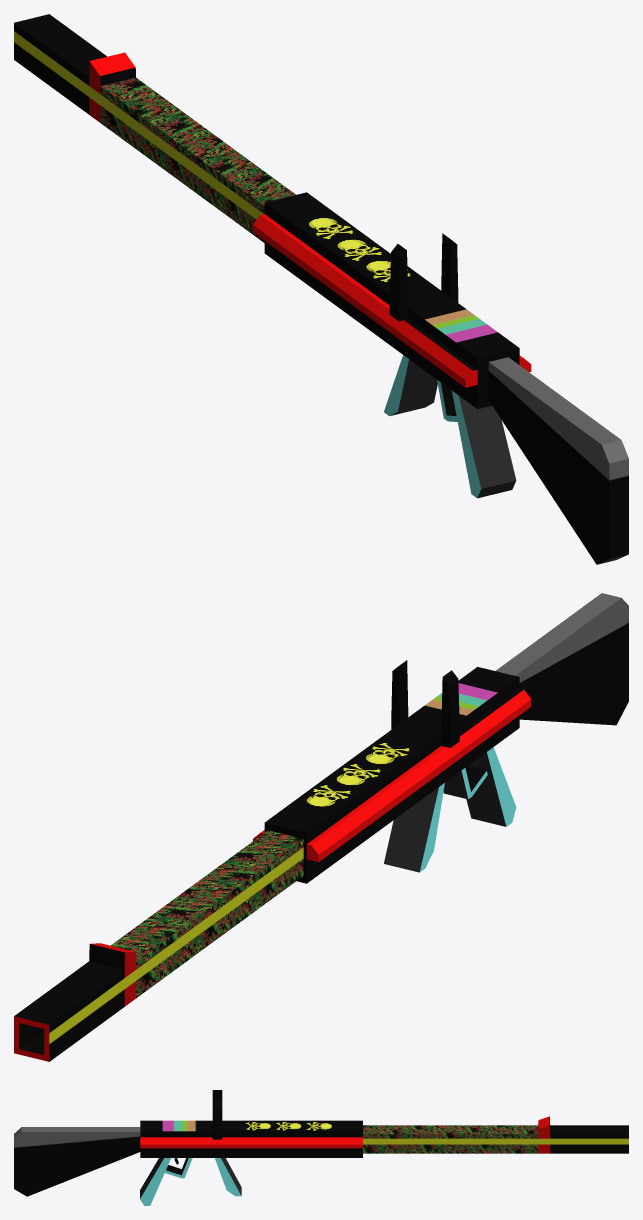
The model's file is Gun 6.fbx.
3 renders of one model, top to bottom at view 1: azimuth 30°, elevation 25°; view 2: azimuth 150°, elevation 25°; view 3: azimuth 270°, elevation 25°, orthographic. The views are drawn at different scales.
Visible parts, largest first — view 1: Cube.001; view 2: Cube.001; view 3: Cube.001.
Part boxes in pixels (bbox=[...]): Cube.001: bbox=[14, 14, 628, 564]; Cube.001: bbox=[14, 593, 628, 1061]; Cube.001: bbox=[14, 1090, 628, 1205].
Size of the model in its own units: 98.36 by 287 by 1519.
Materials: 1 (1 with a texture image).
